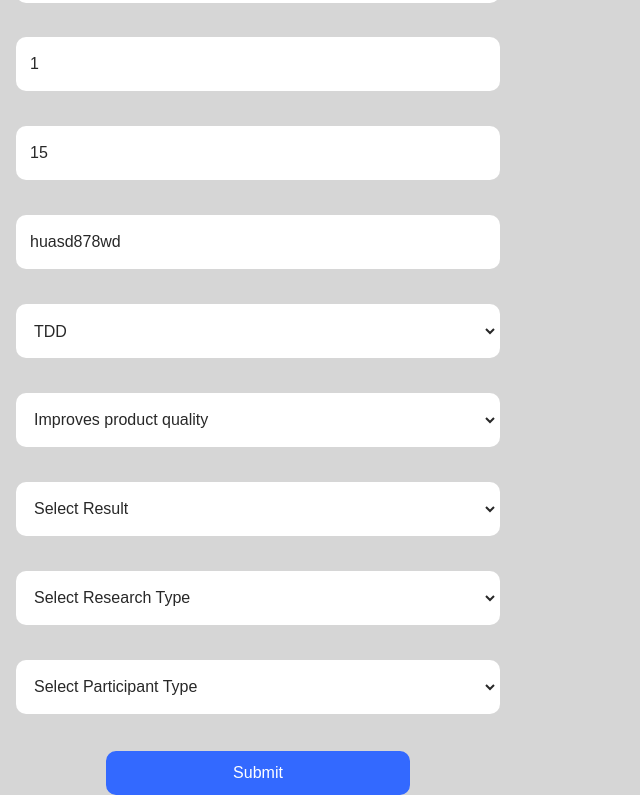
Test: validation of leaving dropdown without input
(page scrolled)
Click the dropdown with test id "result" at {"x": 258, "y": 509}, box 18,484 -> 498,534
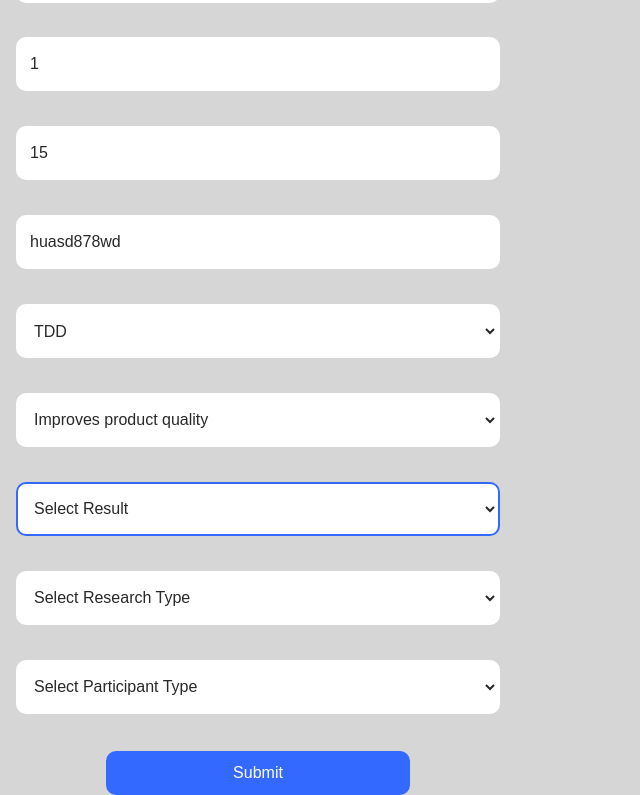
Click the dropdown with test id "research" at {"x": 258, "y": 598}, box 18,573 -> 498,623
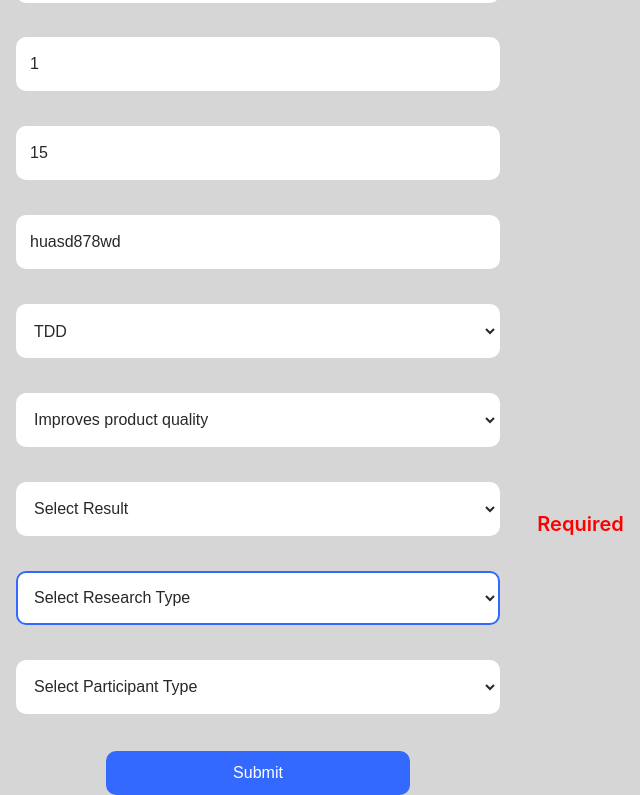
Expected: the text "Required" is shown, 532,512 -> 624,536
